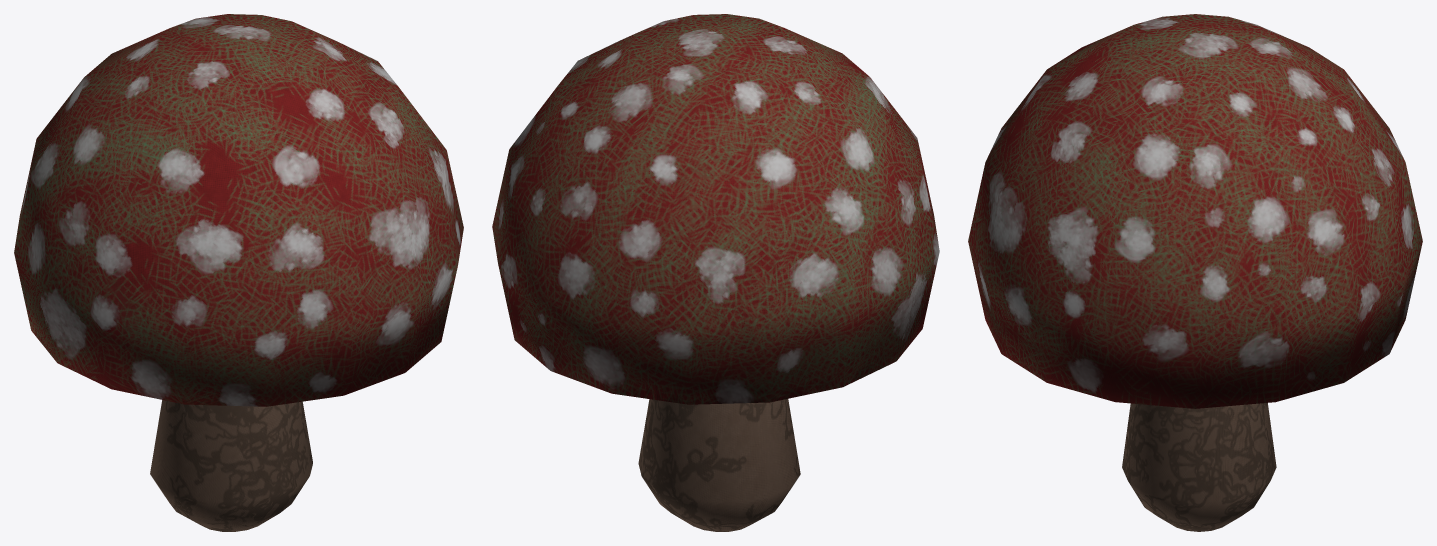
Rendered from Hongo low poly.fbx.
3 renders of one model, left to right at view 1: azimuth 30°, elevation 25°; view 2: azimuth 150°, elevation 25°; view 3: azimuth 270°, elevation 25°, orthographic.
Parts seen in each view (by area): view 1: cabeza_hongo, hongo_tallo; view 2: cabeza_hongo, hongo_tallo; view 3: cabeza_hongo, hongo_tallo.
Boxes of the visible parts, x1=… form: cabeza_hongo: x1=14, y1=14, x2=463, y2=406; hongo_tallo: x1=150, y1=400, x2=312, y2=531; cabeza_hongo: x1=492, y1=14, x2=939, y2=404; hongo_tallo: x1=638, y1=399, x2=800, y2=531; cabeza_hongo: x1=968, y1=14, x2=1422, y2=408; hongo_tallo: x1=1122, y1=403, x2=1276, y2=531.
Size of the model in its own units: 12.66 by 15.1 by 12.66.
